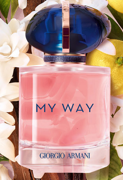armani_my_way_floral: (15, 1, 113, 172)
